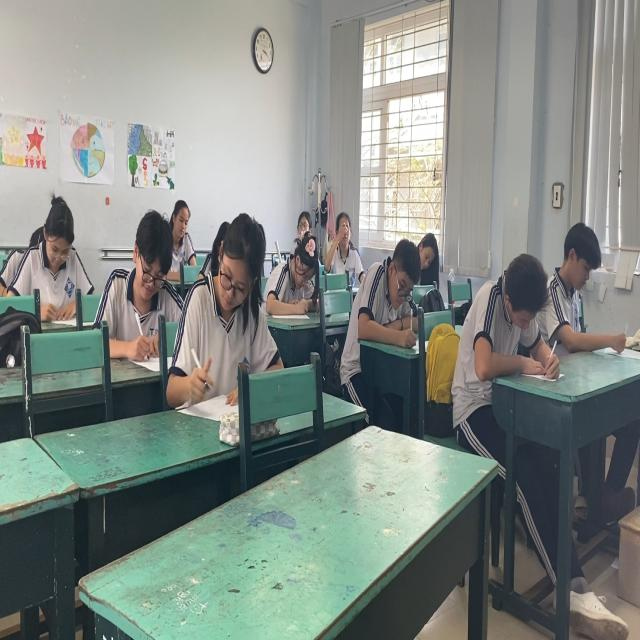not_cheating: (202, 204, 268, 393), (468, 245, 552, 386), (100, 206, 178, 348), (546, 220, 626, 338), (23, 190, 94, 320), (357, 231, 417, 348), (262, 231, 320, 320), (159, 196, 205, 292), (328, 204, 363, 272), (412, 224, 442, 279)
